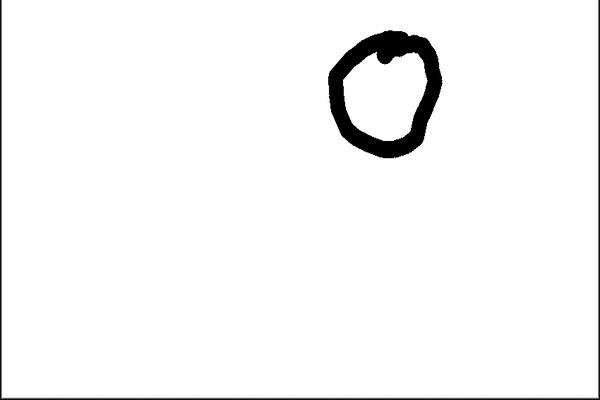O: (319, 20, 445, 161)
